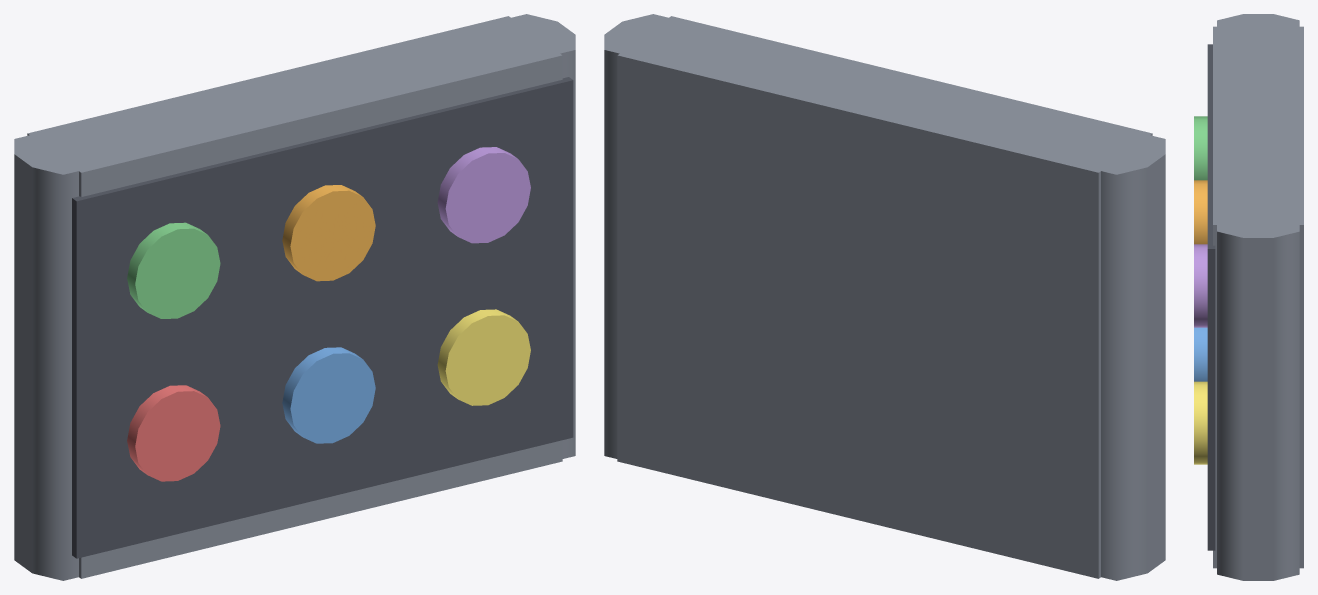
Rendered from prop_button_console.glb.
The picture shows the model from 3 angles, left to right: view 1: azimuth 30°, elevation 25°; view 2: azimuth 150°, elevation 25°; view 3: azimuth 270°, elevation 25°; orthographic projection. The views are drawn at different scales.
Parts seen in each view (by area): view 1: prop_button_console, button_1, button_2, button_3, button_6, button_4, button_5; view 2: prop_button_console; view 3: prop_button_console, button_3, button_6, button_4, button_5, button_2.
Part boxes in pixels (x1=…): prop_button_console: x1=14, y1=14, x2=575, y2=580; button_1: x1=127, y1=385, x2=220, y2=481; button_2: x1=282, y1=347, x2=375, y2=443; button_3: x1=437, y1=309, x2=530, y2=405; button_6: x1=437, y1=147, x2=530, y2=243; button_4: x1=127, y1=222, x2=220, y2=318; button_5: x1=282, y1=185, x2=375, y2=281; prop_button_console: x1=604, y1=14, x2=1165, y2=580; prop_button_console: x1=1207, y1=14, x2=1303, y2=580; button_3: x1=1194, y1=381, x2=1207, y2=464; button_6: x1=1194, y1=244, x2=1207, y2=327; button_4: x1=1194, y1=116, x2=1207, y2=180; button_5: x1=1194, y1=180, x2=1207, y2=244; button_2: x1=1194, y1=327, x2=1207, y2=381.
Bounding box in the file's own units: 0.7 × 0.5 × 0.145.
